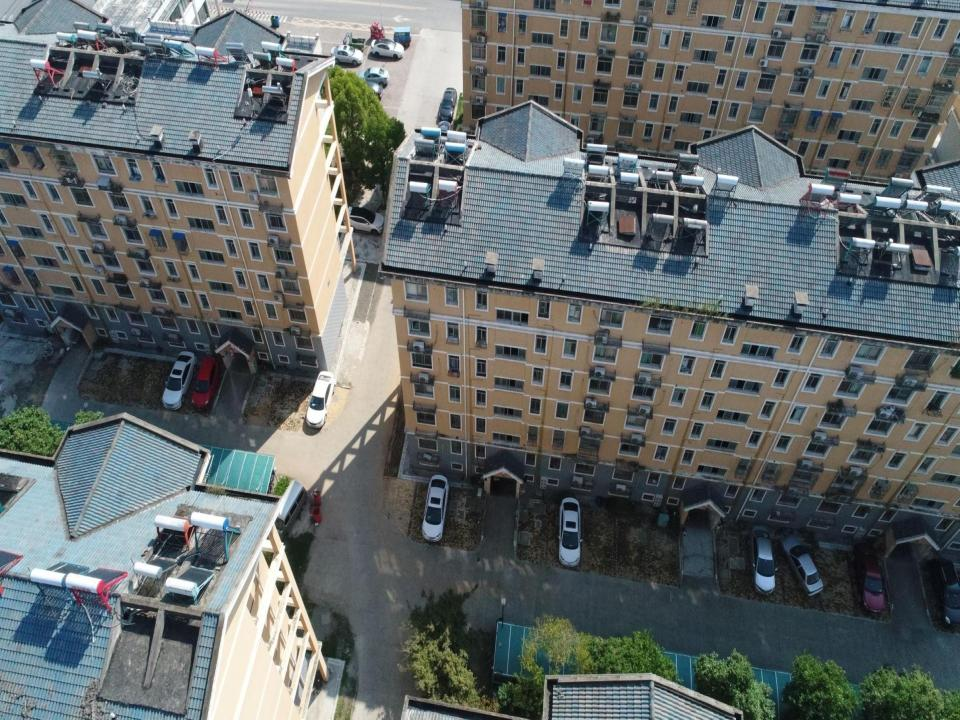car: (780, 532, 823, 596), (926, 558, 959, 633), (851, 543, 885, 615), (747, 524, 778, 595), (162, 351, 198, 410), (420, 474, 450, 542), (558, 496, 584, 568), (306, 370, 336, 429), (192, 356, 222, 411), (344, 206, 385, 236), (370, 38, 404, 60), (330, 45, 364, 65), (438, 88, 457, 122), (358, 67, 390, 85), (355, 81, 383, 100), (436, 121, 451, 151)
van: (270, 479, 308, 542)
